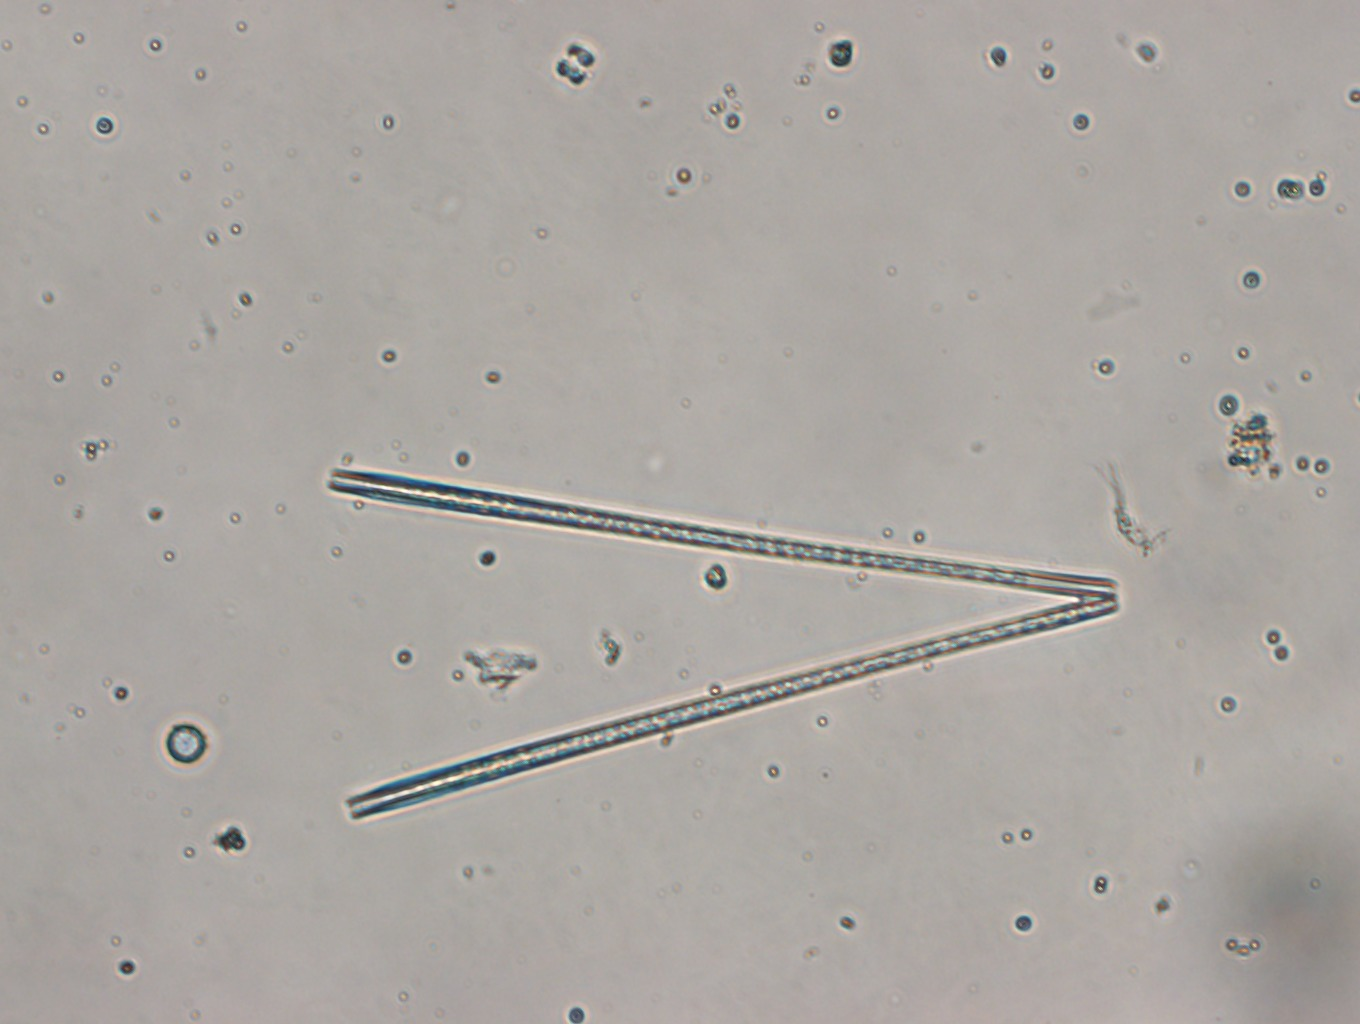thalassionema frauenfeldii: (316, 451, 1133, 826)
